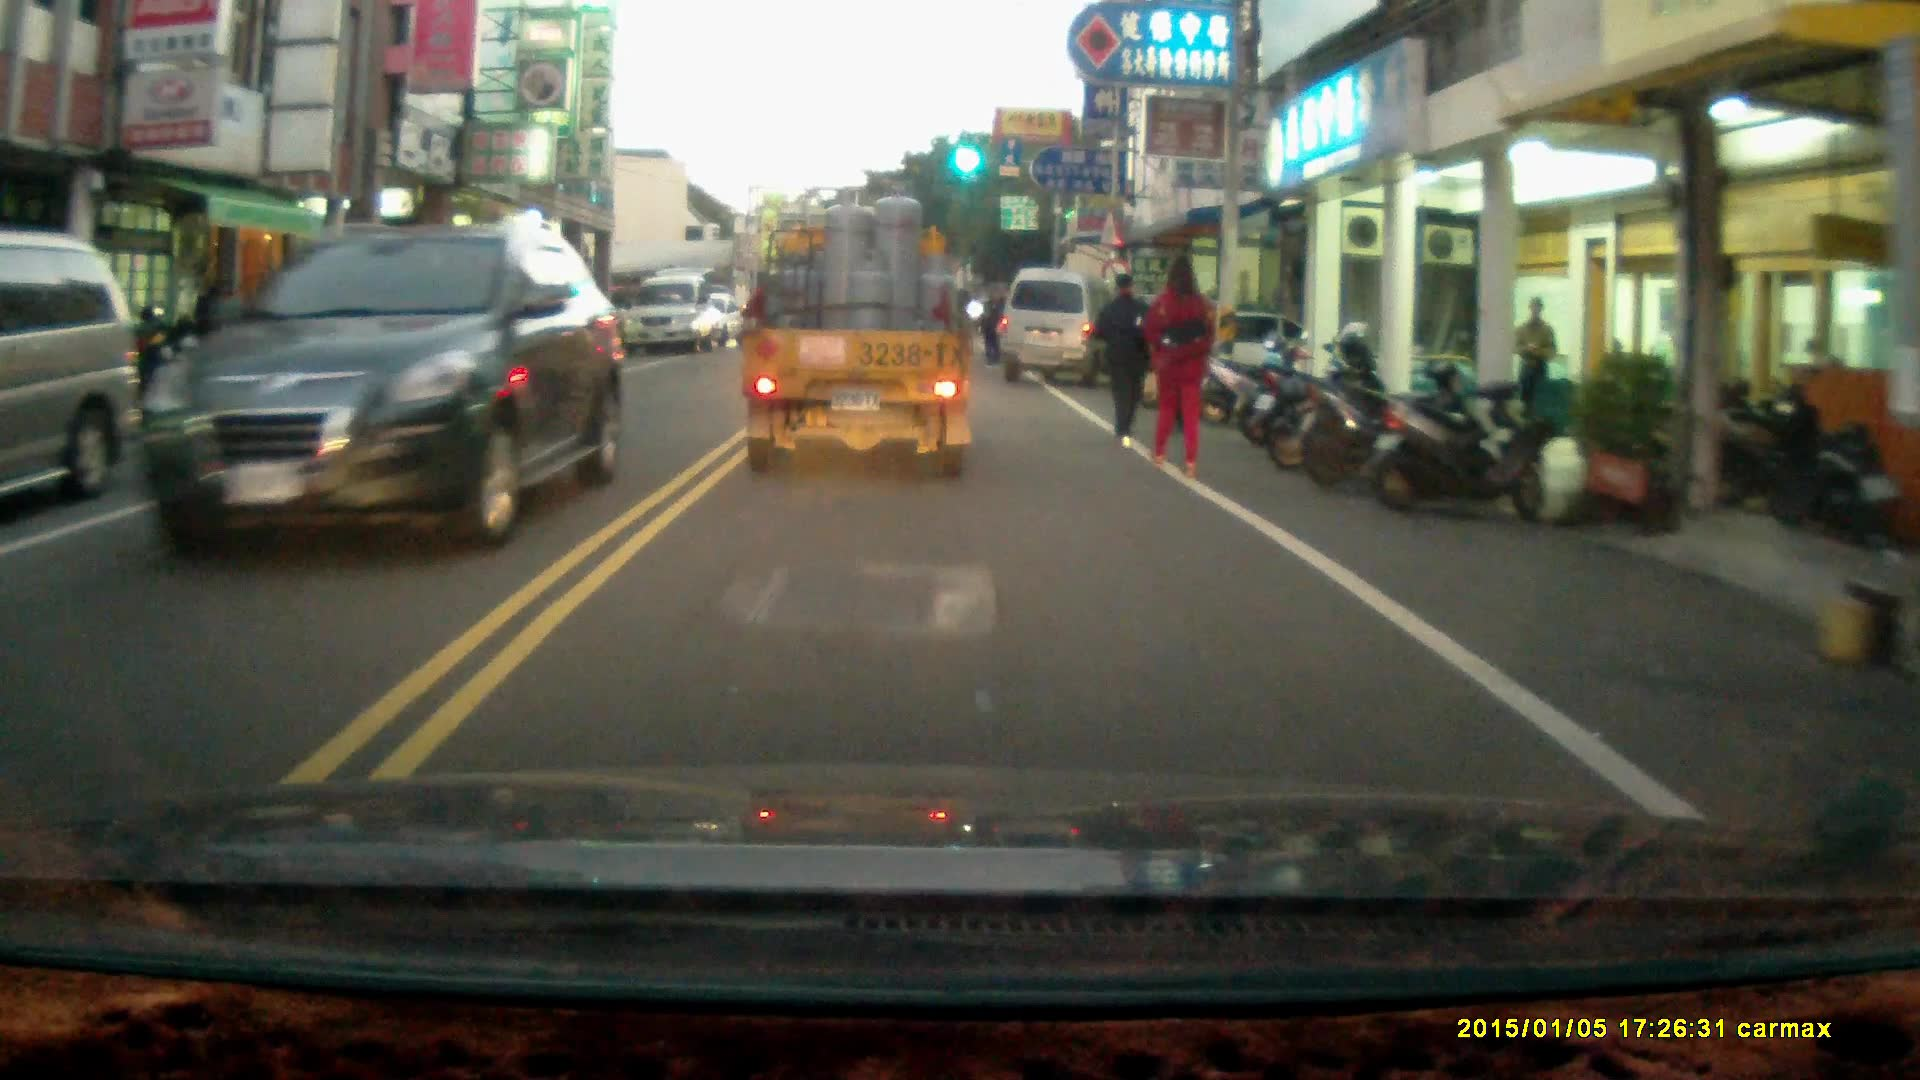pedestrian: (1144, 249, 1217, 477), (1092, 265, 1159, 448), (1511, 293, 1557, 431), (978, 287, 1011, 364)
vehicle: (130, 210, 618, 560), (737, 179, 984, 484), (1, 230, 159, 505), (244, 290, 500, 394), (1003, 266, 1125, 388), (627, 272, 724, 356)
